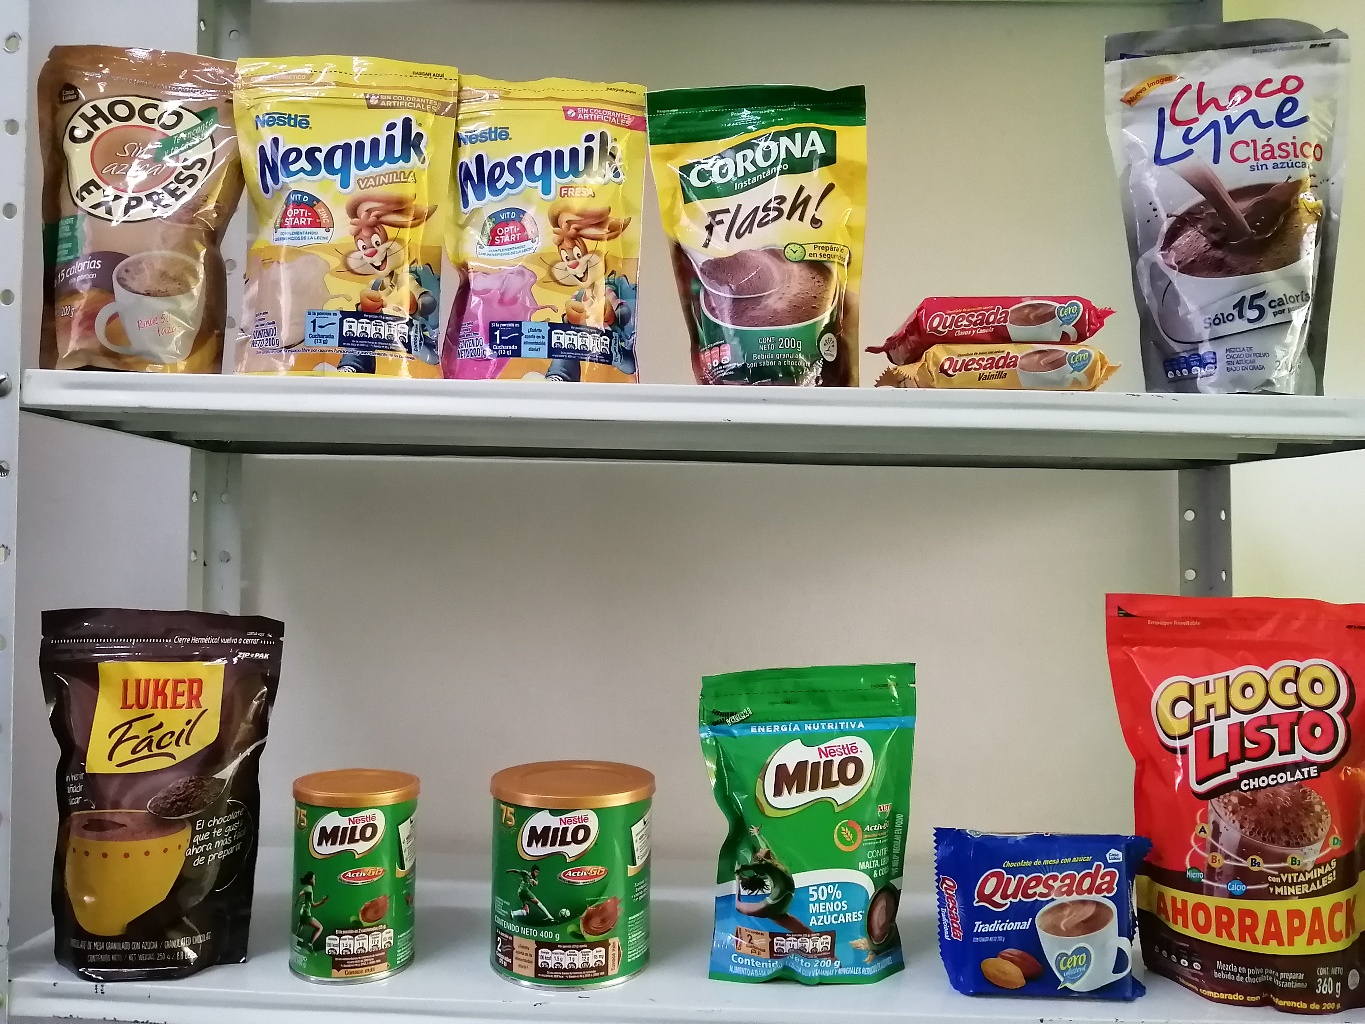COL0170103DYP36000: (1104, 588, 1365, 1023)
COL0170203LAT20000: (288, 756, 447, 993)
COL0170203LAT40000: (465, 754, 678, 997)
COL0170205DYP20000: (695, 669, 921, 992)
COL0170305DYP20000: (450, 70, 653, 392)
COL0170306DYP20000: (234, 52, 454, 376)
